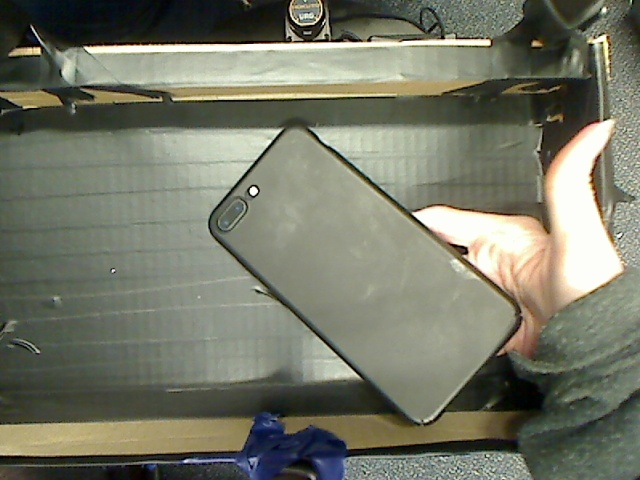phone: (172, 125, 534, 433)
